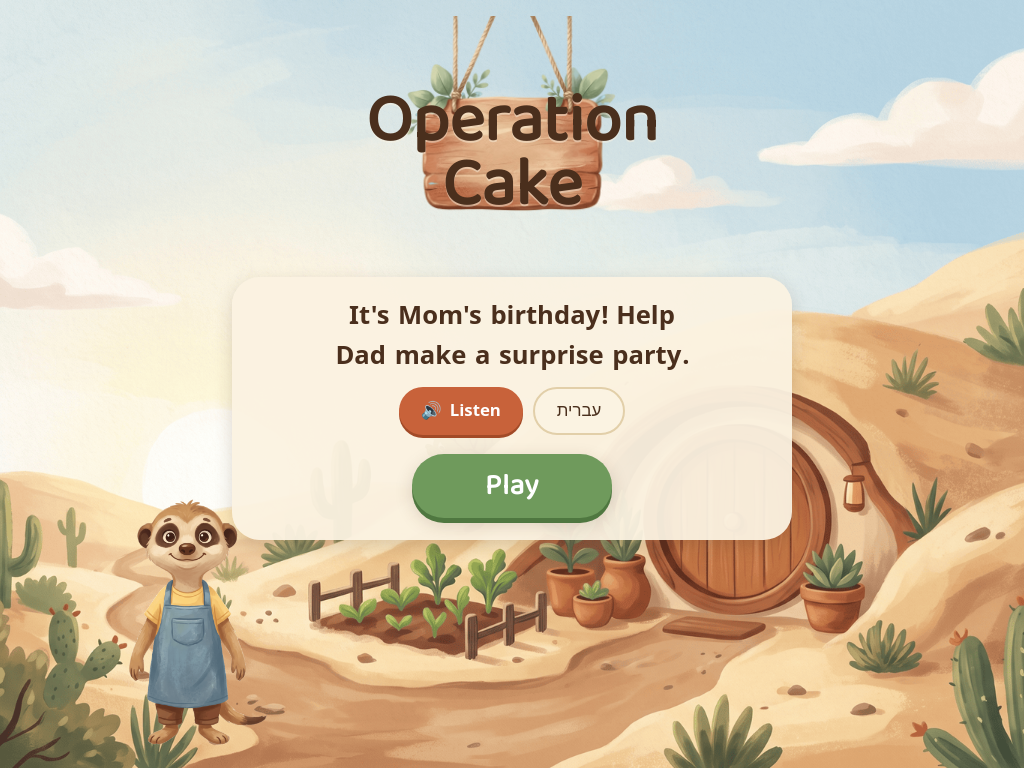
Stage 1 › gives Dad’s hint after two mistakes and shows the answer after a third
Click the button "Play". click: (512, 486)
box: [412,454,612,518]
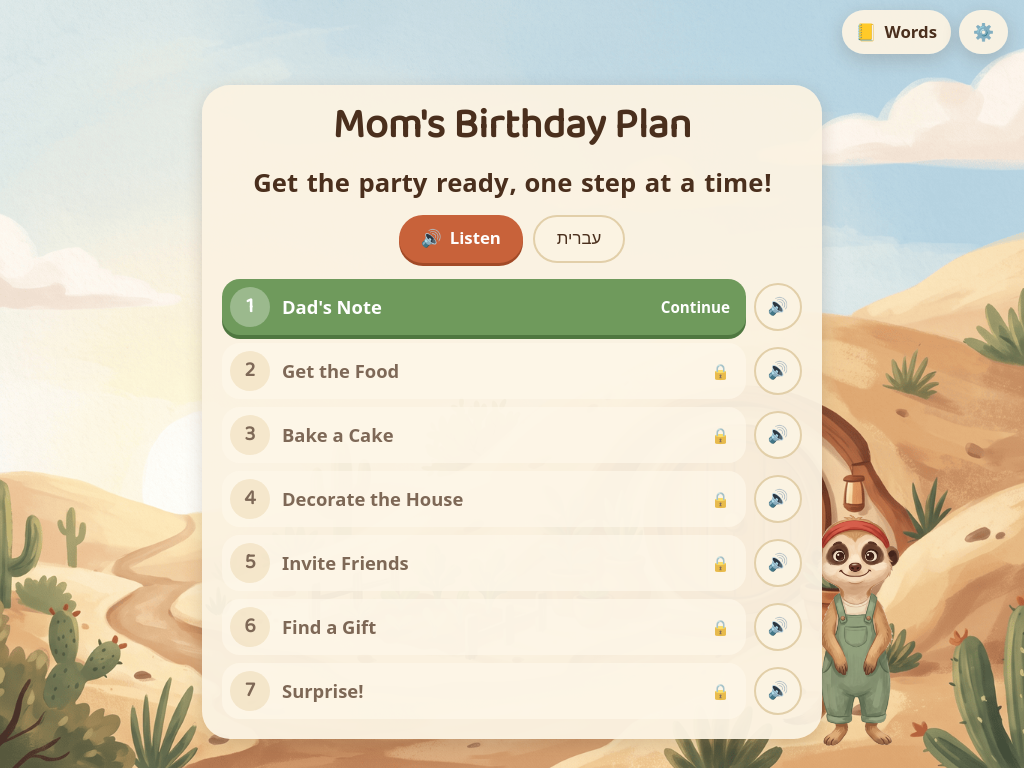
Click the button with class "stage-item__main" showing "1 Dad's Note Continue". click: (250, 307)
box: [222,279,746,335]
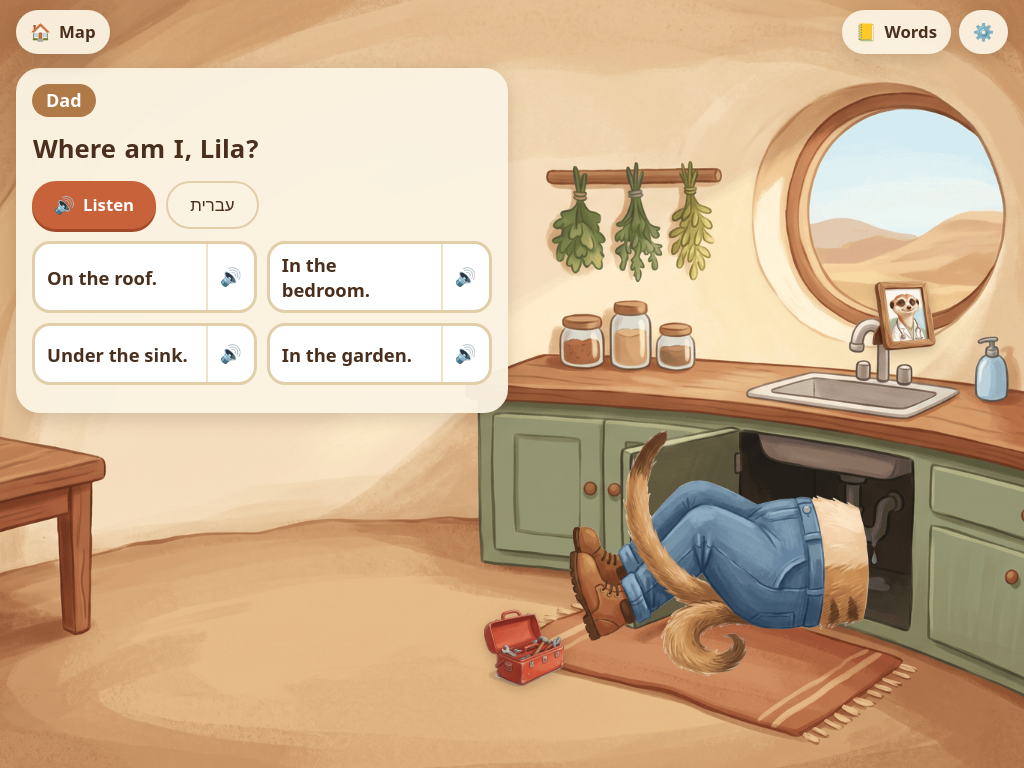
expect the number of elements with class "choice" is 4: met, box [32,241,257,313]; [267,241,492,313]; [32,323,257,385]; [267,323,492,385]
Click the button with class "choice__btn" showing "On the roof.". click: (120, 277)
box: [35,244,206,310]
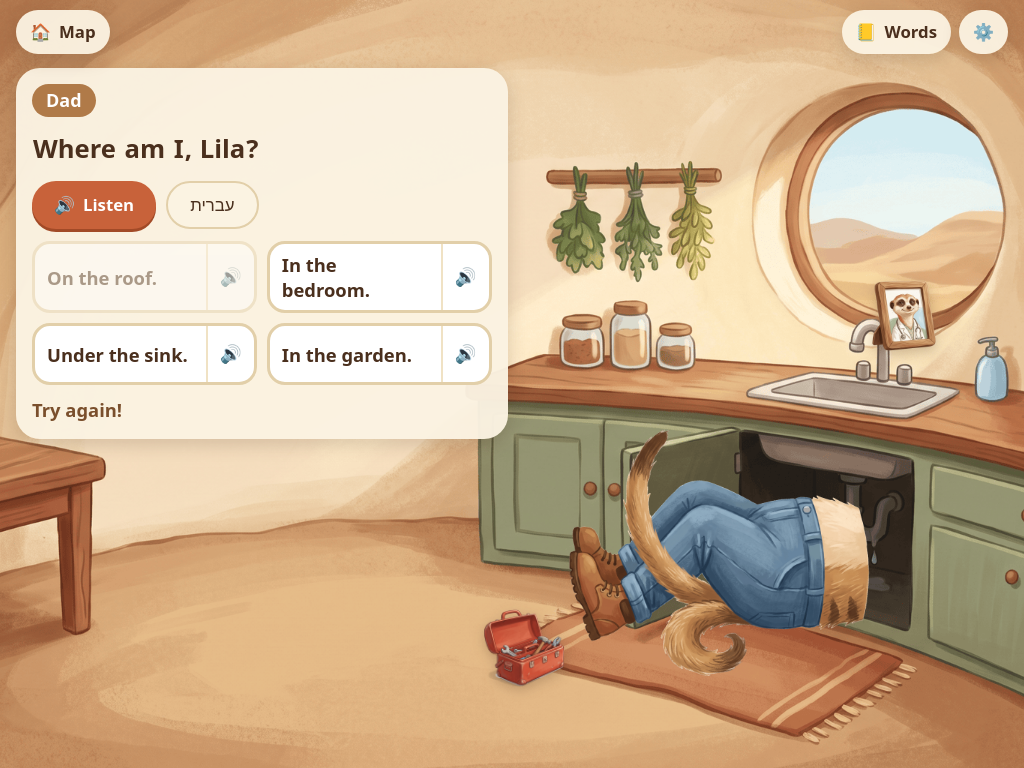
expect the message with class "feedback" reads "Try again!": met, box [32,397,122,422]
Click the button with class "choice__btn" showing "In the bedroom.". click: (355, 277)
box: [270,244,441,310]
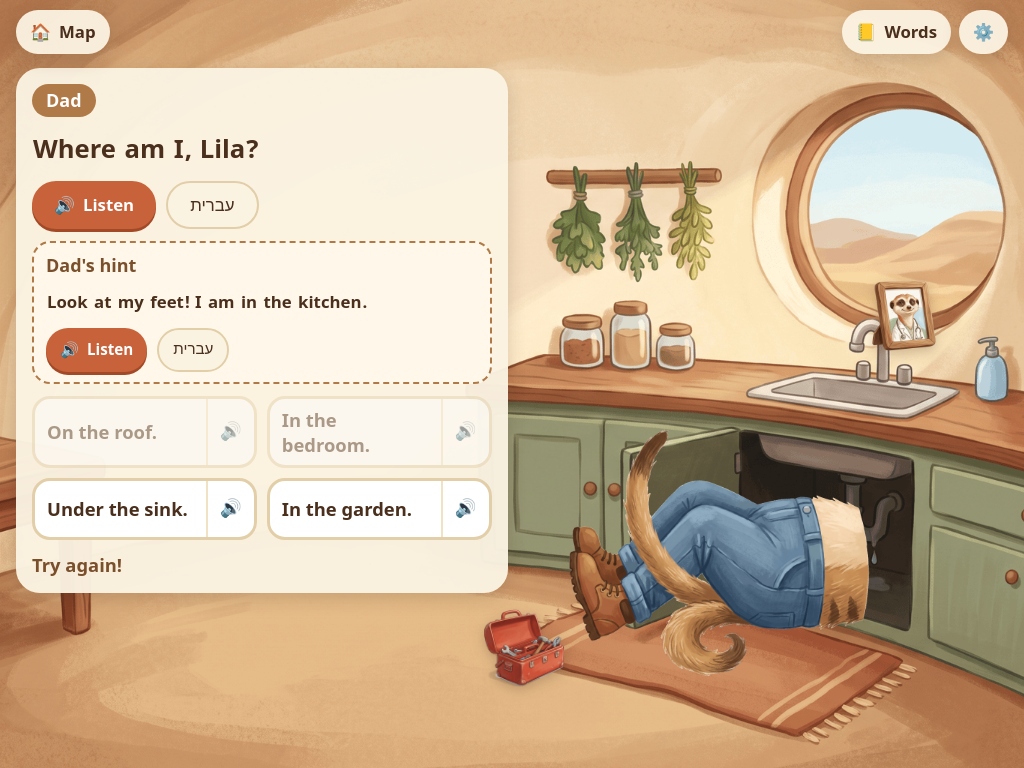
Click the button with class "choice__btn" showing "In the garden.". click: (355, 509)
box: [270,481,441,537]
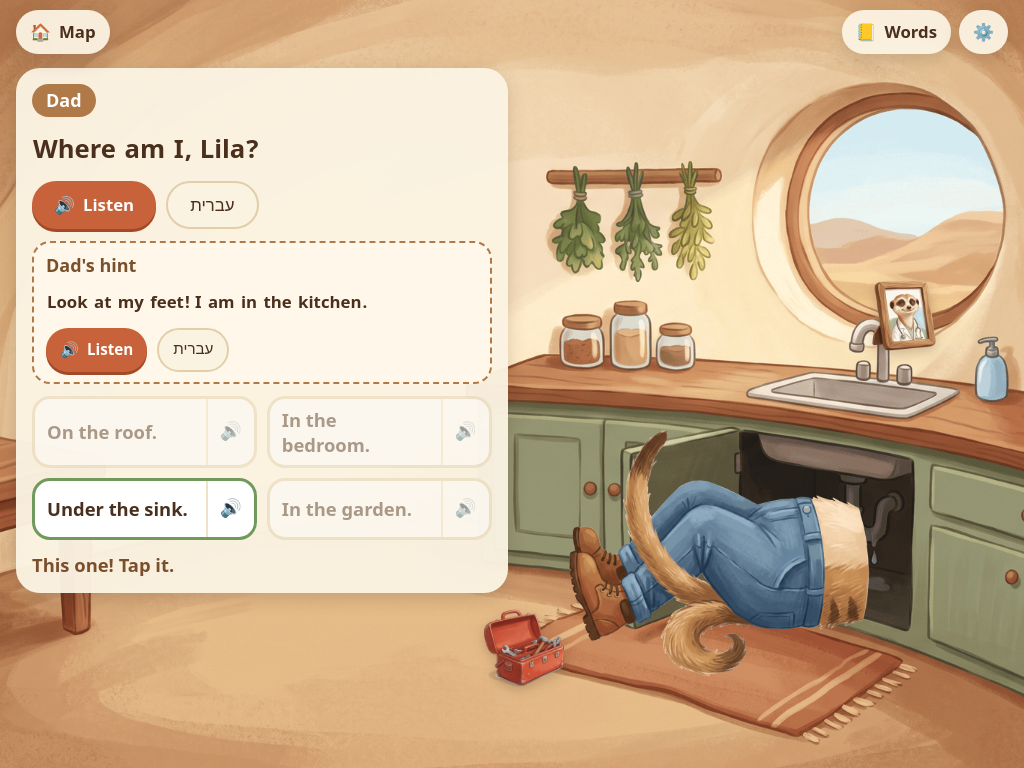
expect the element with class "choice" shows "Under the sink.": met
Click the button "Under the sink.". click: (120, 509)
box: [35,481,206,537]
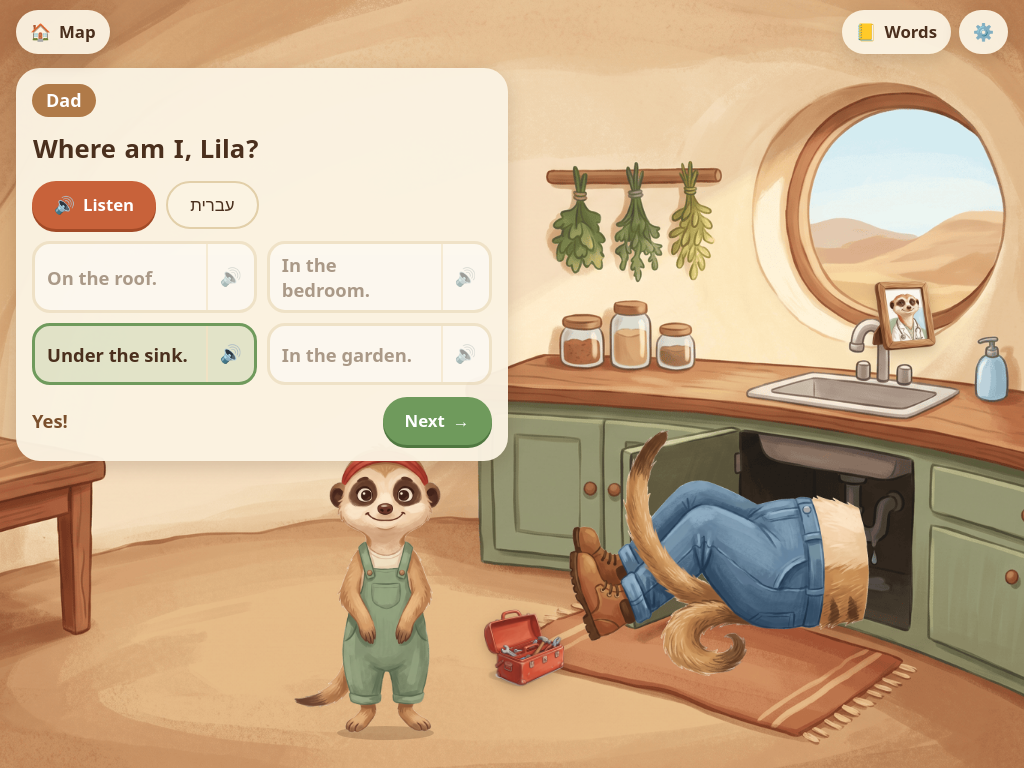
expect the element with class "choice" showing "Under the sink. 🔊" is shown: met, box [32,323,257,385]
expect the button "Next →" is shown: met, box [382,397,492,445]
